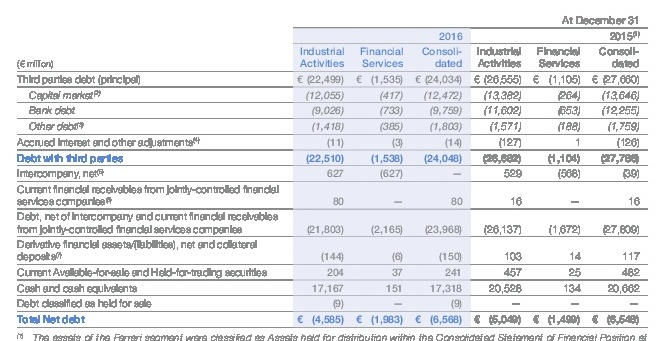table: (0, 0, 663, 341)
